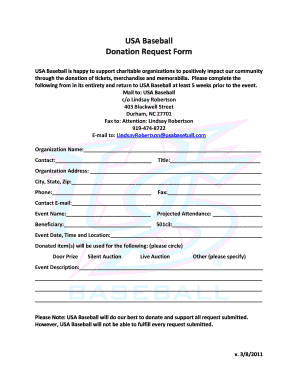textline: (81, 141, 265, 155), (33, 273, 264, 284), (31, 285, 265, 295), (31, 295, 265, 305), (89, 165, 264, 177), (70, 198, 263, 208), (71, 177, 263, 187), (78, 262, 263, 272), (109, 230, 264, 240), (169, 154, 262, 166), (54, 154, 155, 165), (167, 186, 263, 197), (51, 187, 154, 197), (62, 219, 154, 230), (171, 219, 263, 230), (64, 208, 153, 219), (212, 209, 263, 219)
